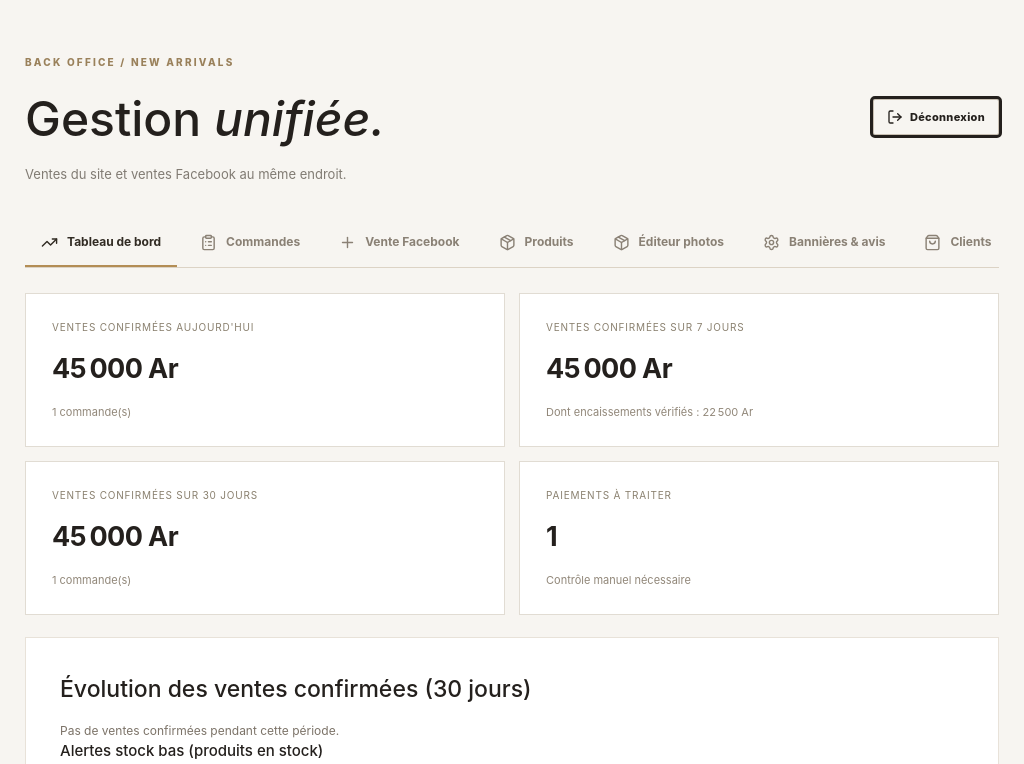
Test case: met à jour les états de paiement et commande, erreur=false
Check: the heading "Gestion unifiée." is shown, box left=25, top=82, right=385, bottom=154
Click the button "Commandes" at (250, 243), box left=184, top=219, right=316, bottom=267
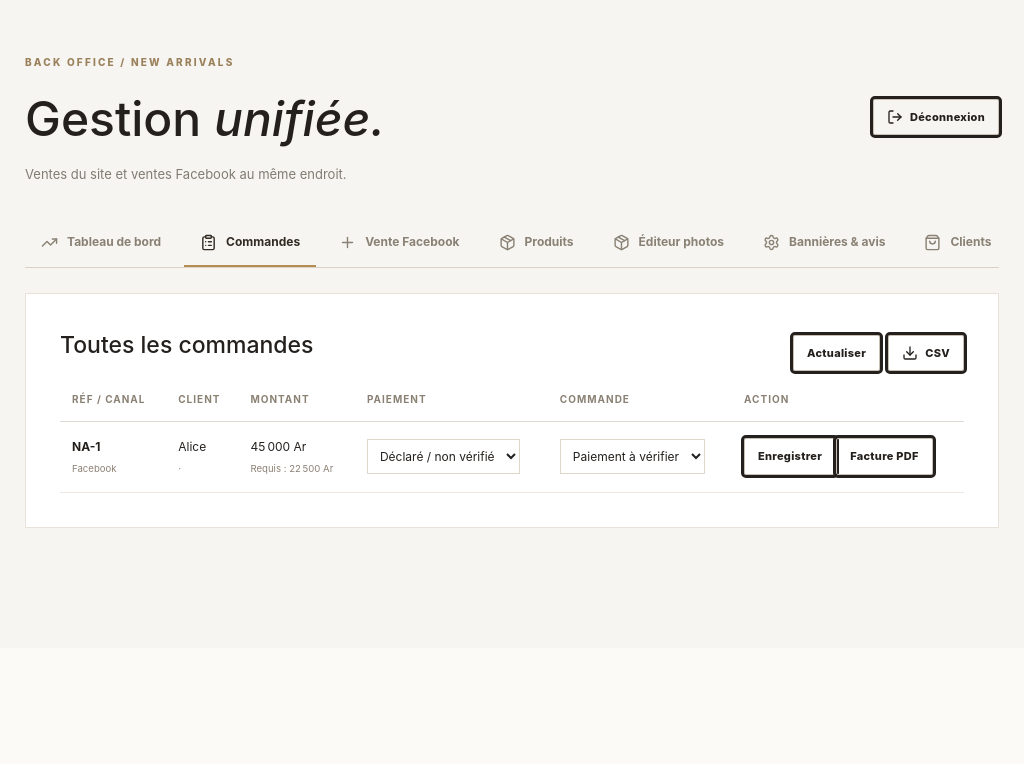
Check: the text "NA-1" is shown, box left=72, top=438, right=100, bottom=454
Select "Vérifié" in the 1st dropdown at (443, 457), box left=367, top=439, right=520, bottom=474
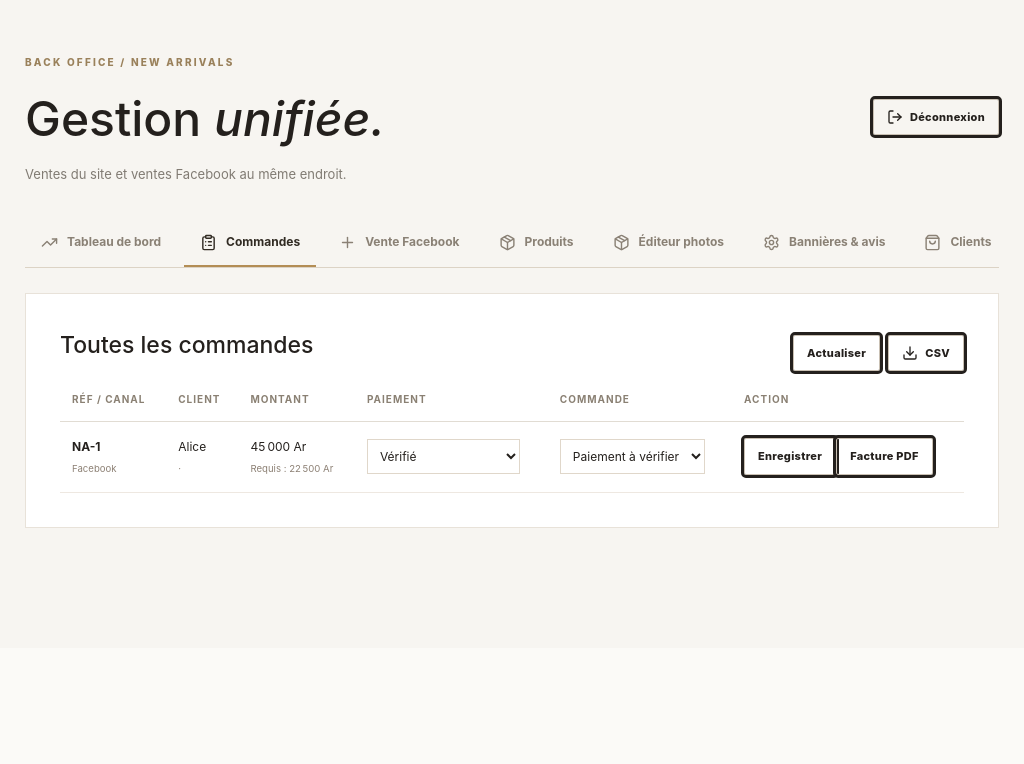
Select "En préparation" in the 2nd dropdown at (632, 457), box left=560, top=439, right=705, bottom=474
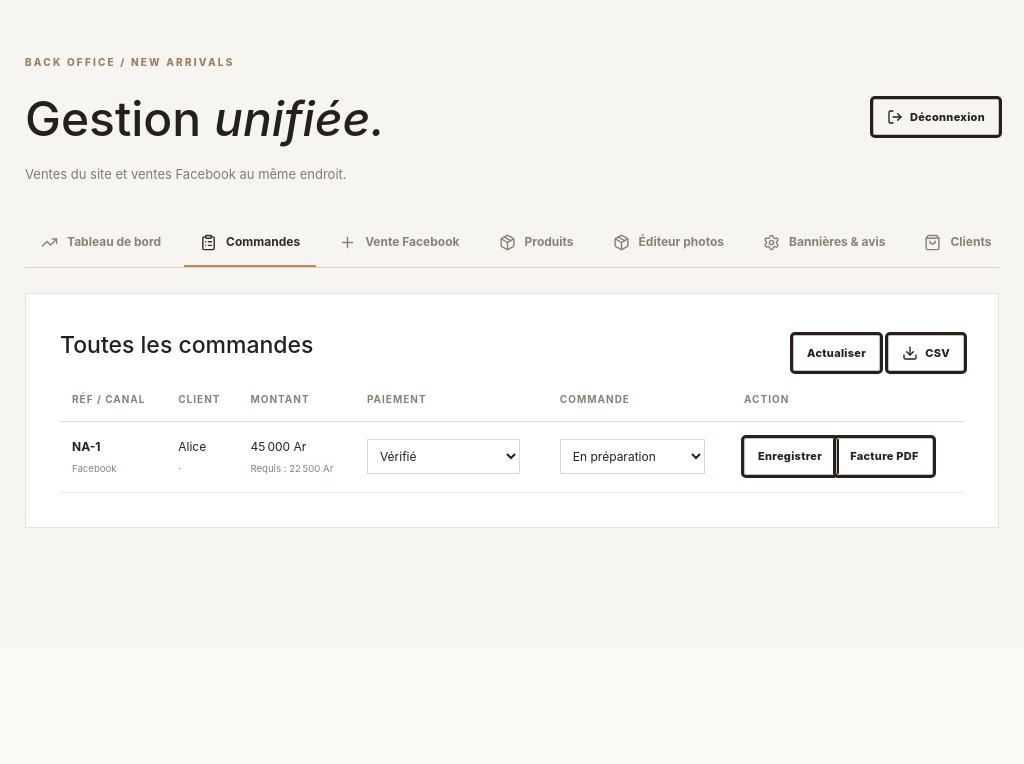
Click the button "Enregistrer" at (790, 457), box left=744, top=438, right=836, bottom=475
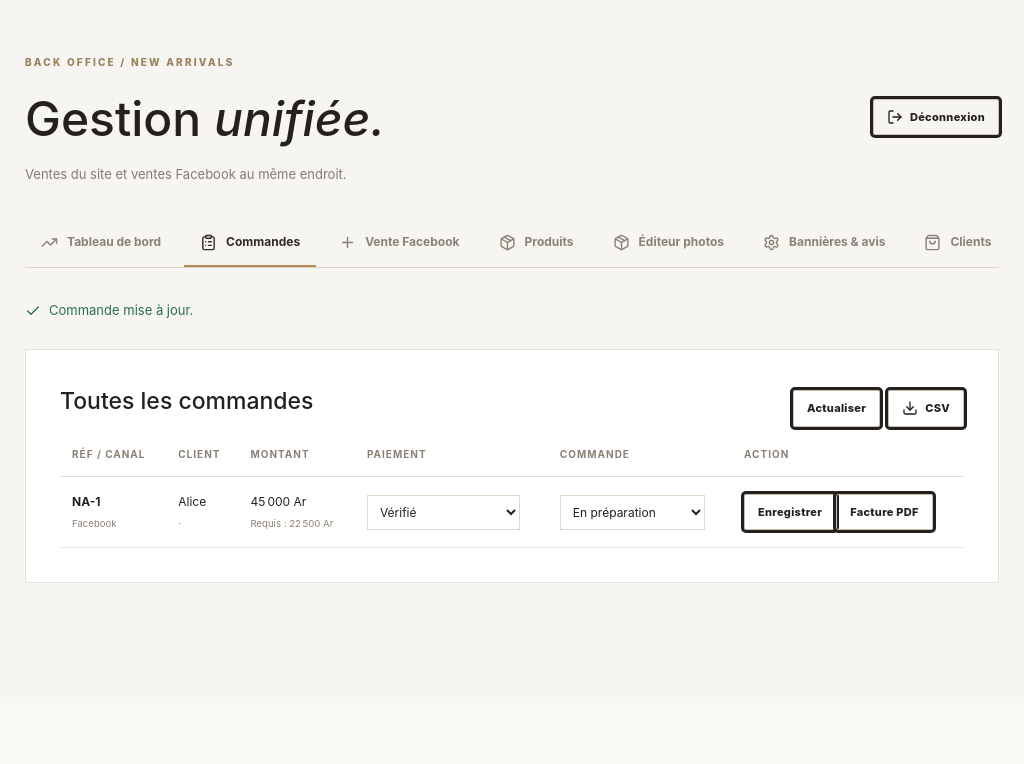
Check: the text "Commande mise à jour." is shown, box left=25, top=302, right=193, bottom=319
